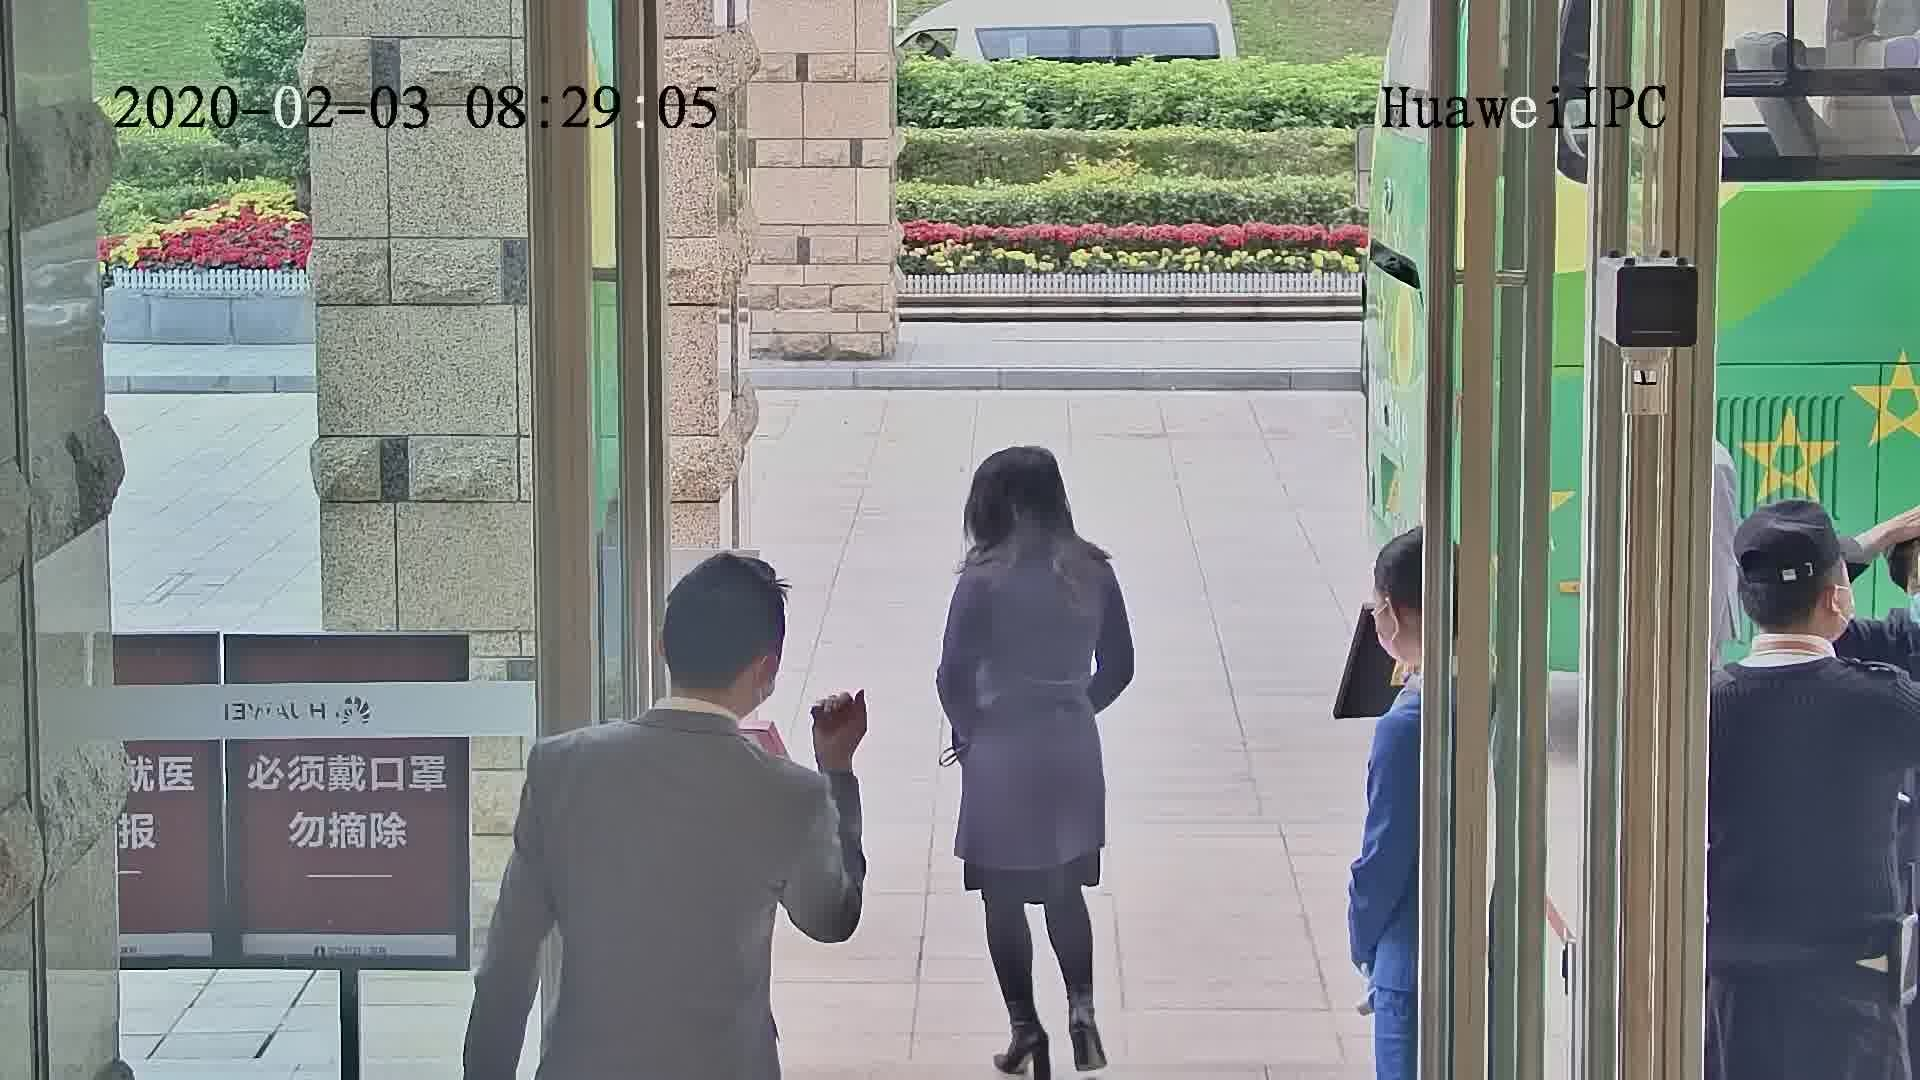person: (536, 553, 833, 857), (1704, 507, 1913, 766), (949, 443, 1126, 617), (1357, 517, 1433, 771)
